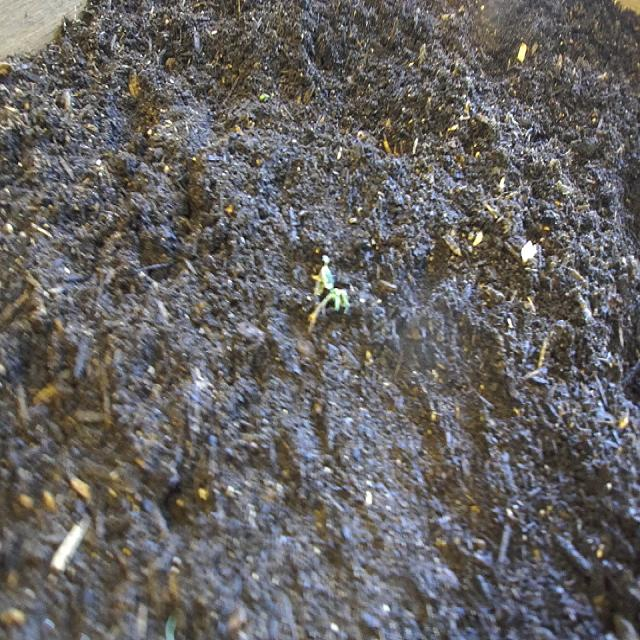Unhealthy: (300, 248, 357, 344)
